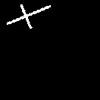single_crochet: (7, 5, 50, 27)
